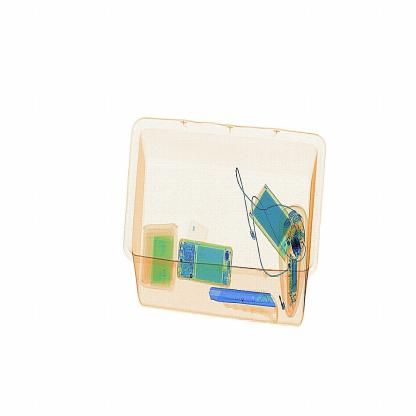pliers: (209, 284, 276, 312)
